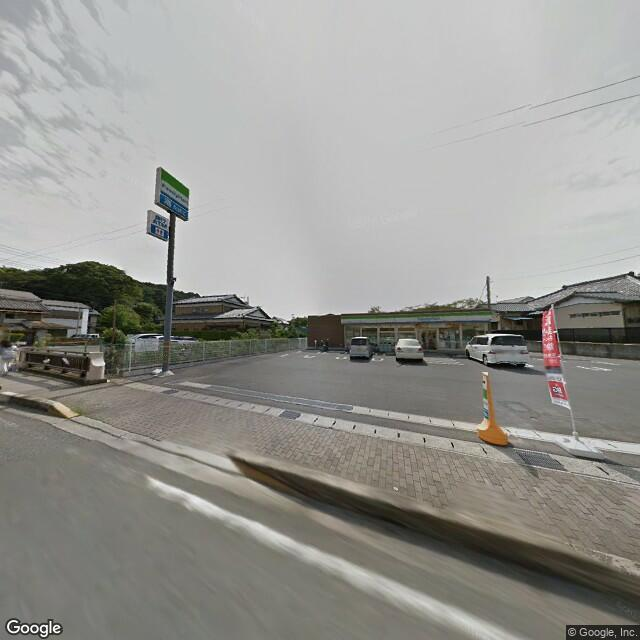family_mart: (342, 311, 494, 326), (159, 167, 190, 216)
